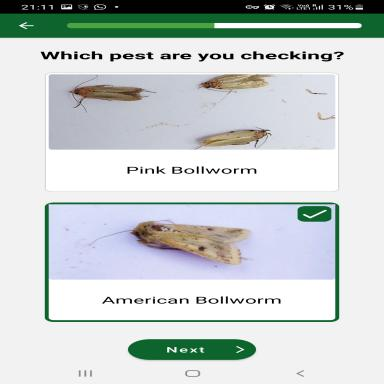abw: (88, 220, 252, 264)
pbw: (69, 75, 157, 113), (193, 127, 271, 150), (196, 74, 276, 93)
